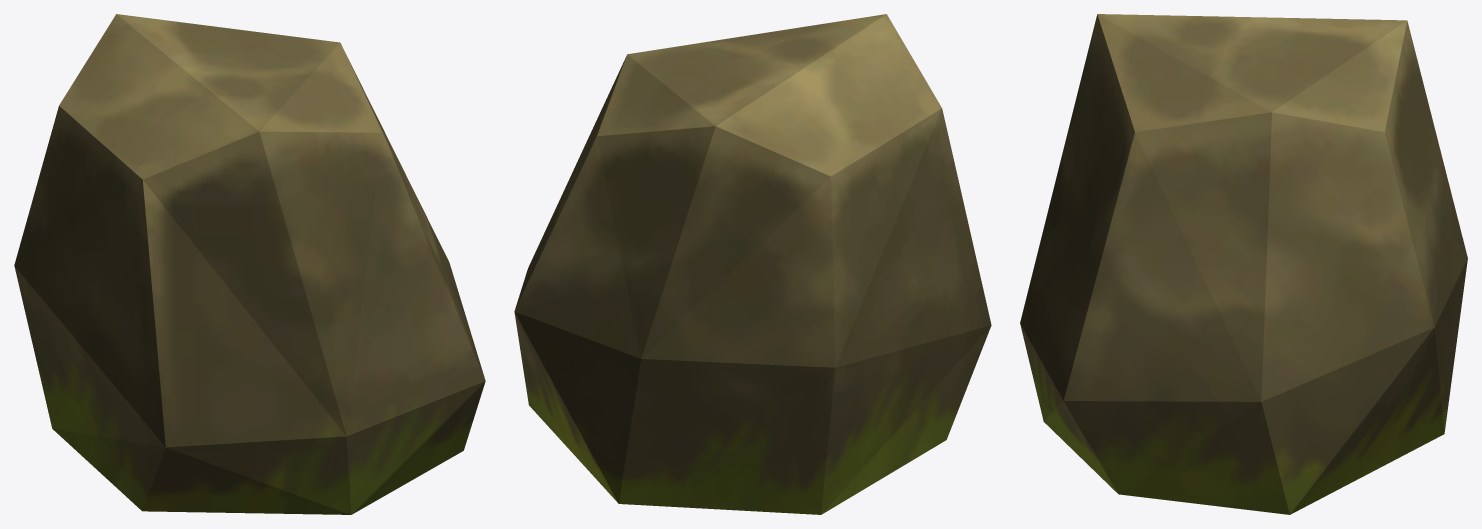
File: rock_03.fbx
3 views of the same model, side by side, from view 1: azimuth 30°, elevation 25°; view 2: azimuth 150°, elevation 25°; view 3: azimuth 270°, elevation 25° (orthographic).
Visible parts, largest first — view 1: obj0.012; view 2: obj0.012; view 3: obj0.012.
Part boxes in pixels (x1,y1,x2,y2): obj0.012: (14,14,485,514); obj0.012: (514,14,991,514); obj0.012: (1020,14,1467,514).
Size of the model in its own units: 1.55 by 1.51 by 1.63.
